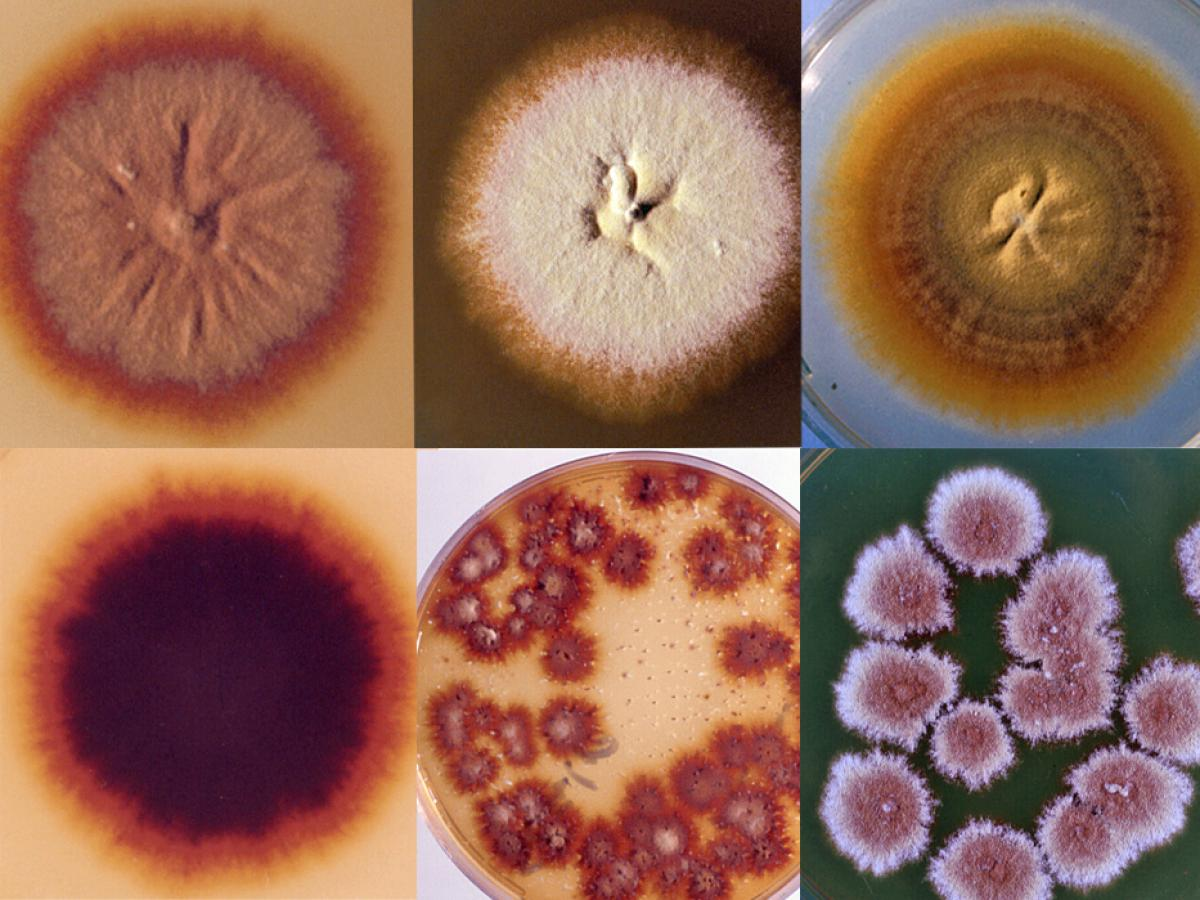Trichophyton: (32, 62, 344, 351), (60, 539, 399, 801), (863, 102, 1147, 335), (483, 104, 740, 340), (426, 695, 740, 850), (1013, 552, 1123, 740), (444, 546, 584, 670), (819, 752, 926, 860), (855, 537, 945, 634)
